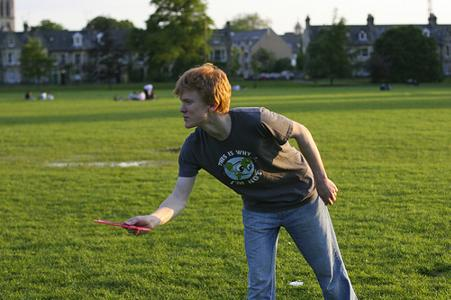person: (125, 64, 360, 300)
